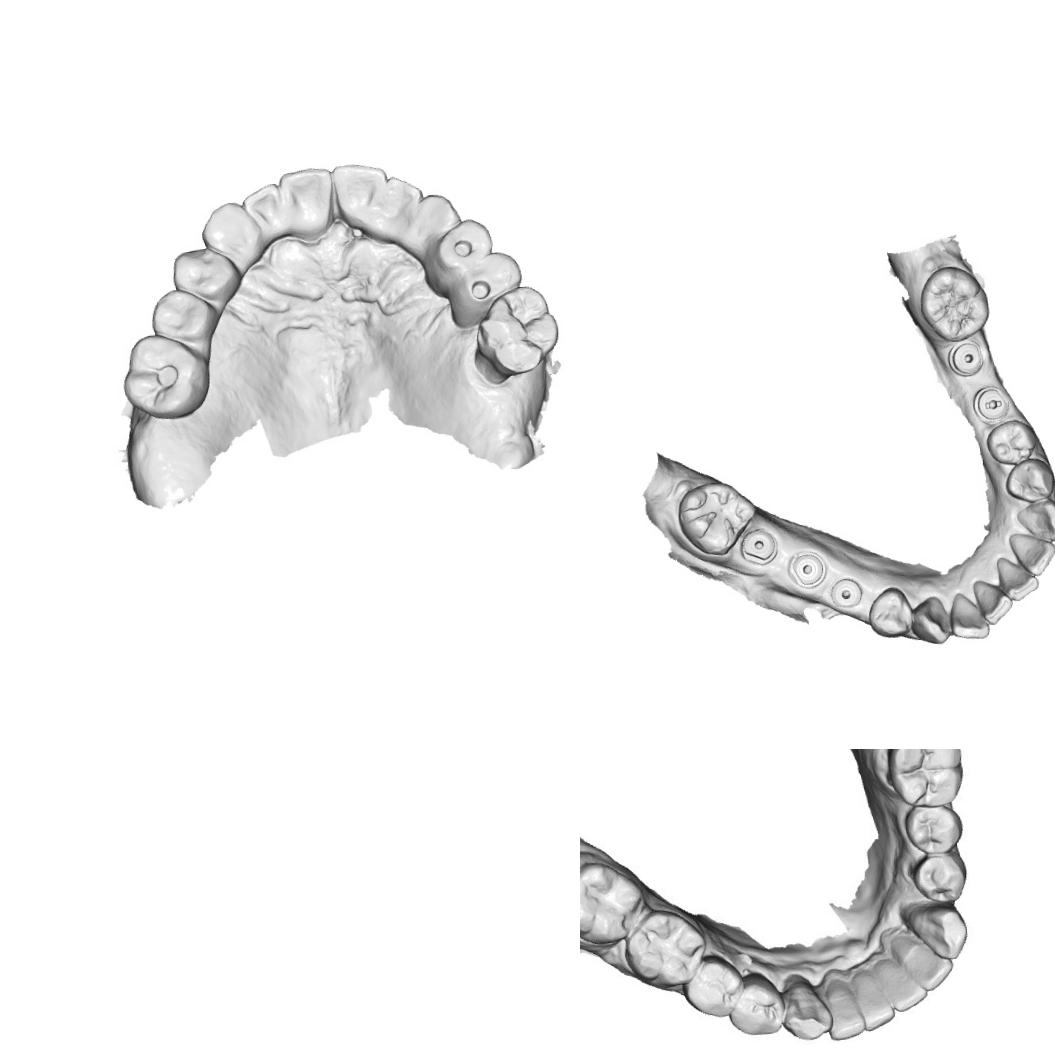canine: (196, 198, 266, 263), (902, 898, 971, 963), (778, 975, 838, 1046), (405, 190, 464, 250), (910, 592, 950, 647), (1013, 496, 1055, 545)
implant: (739, 523, 778, 564), (948, 339, 984, 377), (790, 550, 826, 588), (828, 574, 864, 611)
implant_minus: (972, 383, 1013, 426)
incisor: (274, 164, 339, 242), (886, 924, 956, 992), (329, 160, 392, 230), (874, 944, 932, 1014), (818, 966, 870, 1043), (238, 178, 288, 243), (852, 965, 898, 1035), (376, 172, 427, 231), (1006, 525, 1055, 578), (945, 588, 990, 642), (993, 552, 1038, 604), (969, 575, 1011, 628)
molar: (117, 328, 214, 423), (469, 282, 562, 378), (620, 904, 711, 989), (672, 474, 756, 558), (914, 262, 991, 345), (580, 855, 645, 947), (878, 749, 967, 810)
premolar: (681, 951, 745, 1024), (454, 248, 525, 313), (170, 244, 244, 306), (426, 214, 496, 278), (147, 284, 218, 347), (727, 968, 786, 1038), (898, 798, 962, 855), (908, 846, 970, 904), (984, 417, 1043, 469), (864, 584, 914, 642), (1002, 455, 1055, 505)
